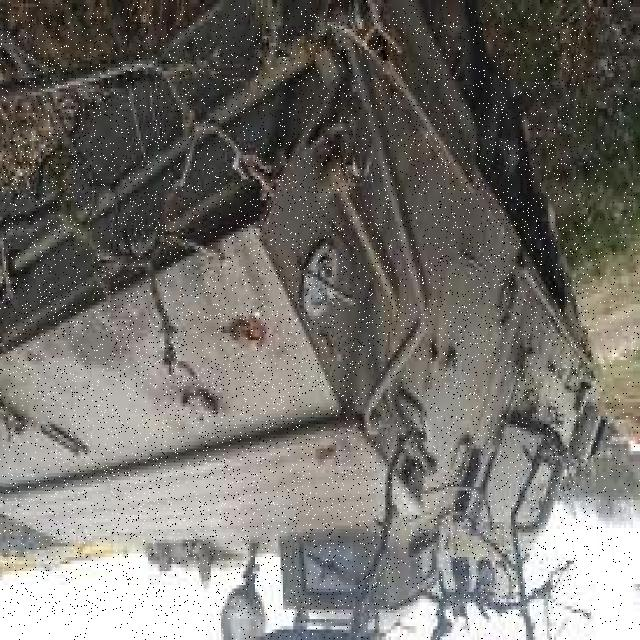MIL_MBT: (4, 11, 589, 615)
